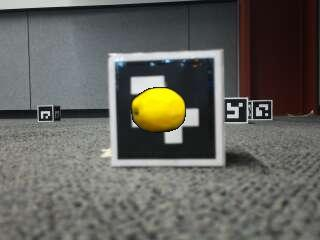lemon: (132, 87, 185, 131)
